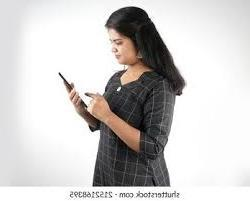Human: (70, 4, 183, 194)
